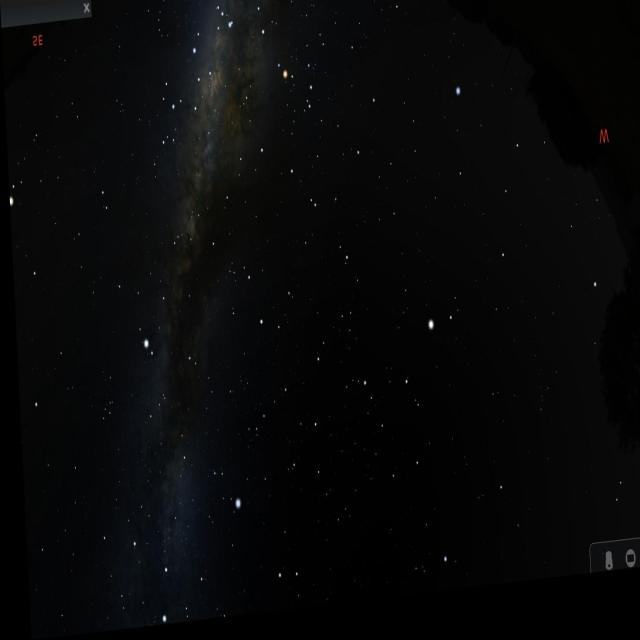aquila: (112, 215, 206, 394)
bootes: (373, 288, 472, 533)
cygnus: (120, 426, 200, 630)
lyra: (200, 461, 242, 525)
sagittarius: (132, 25, 218, 182)
scorpius: (212, 0, 325, 137)
